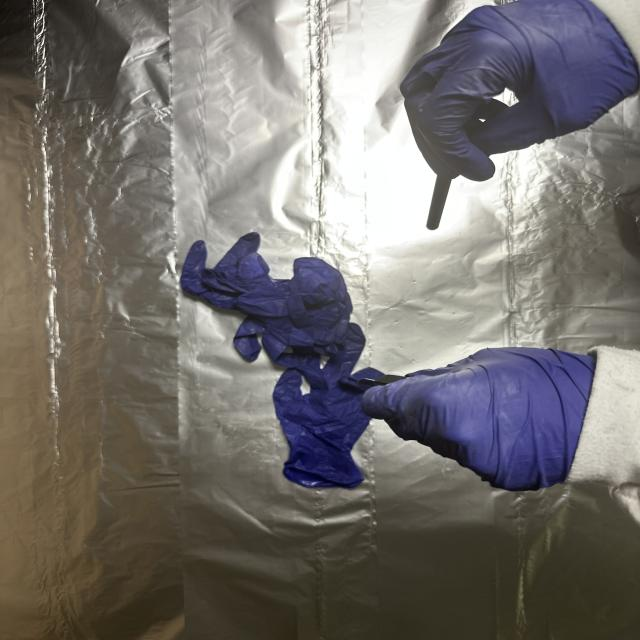gloves_contaminated: (401, 0, 640, 181), (362, 348, 595, 490)
